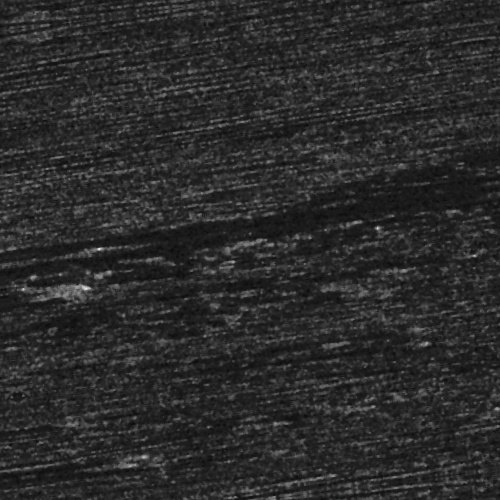object: (57, 431, 140, 444), (317, 229, 390, 236), (370, 360, 423, 365), (289, 347, 330, 352), (213, 420, 244, 423)
shadow: (76, 218, 500, 235), (122, 209, 500, 226), (91, 229, 353, 236), (139, 360, 397, 365), (6, 431, 99, 444), (135, 347, 309, 352), (48, 420, 228, 423)
